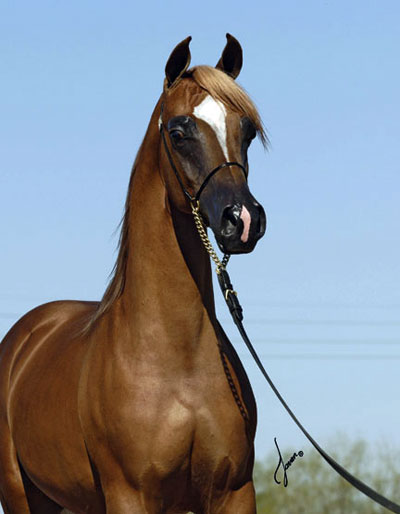horse: (1, 27, 277, 514)
